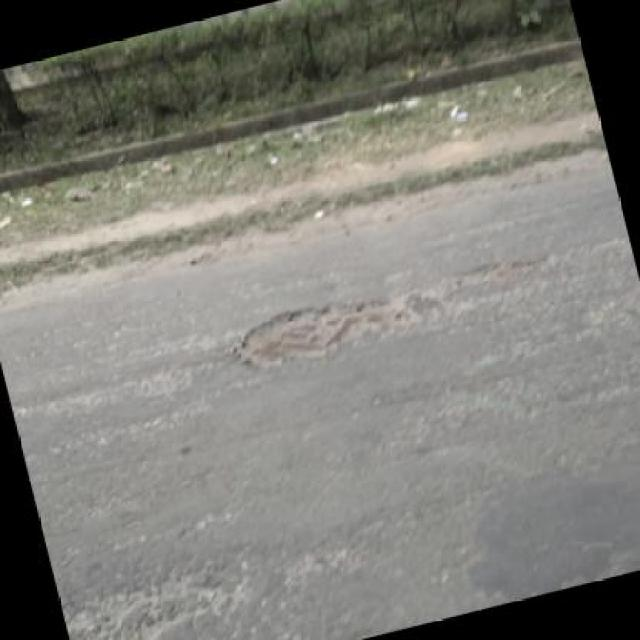pothole1: (229, 276, 433, 384)
